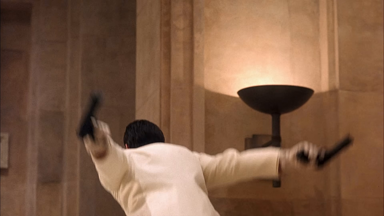firearm: (293, 132, 358, 171), (74, 89, 106, 141)
